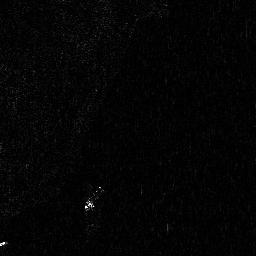ship: (84, 183, 105, 211)
